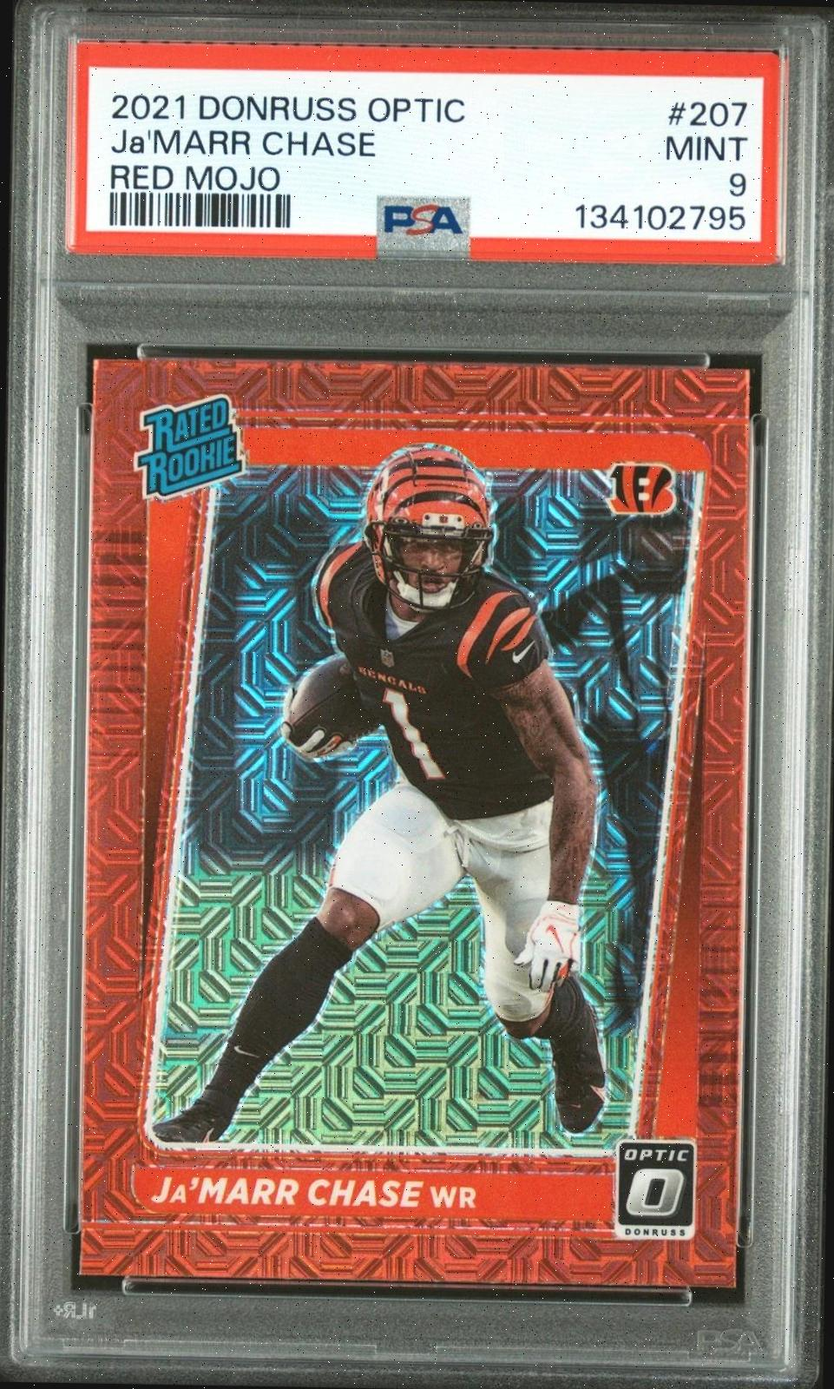card-2UtV: (78, 358, 751, 1289)
